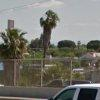Car: (43, 77, 100, 100)
